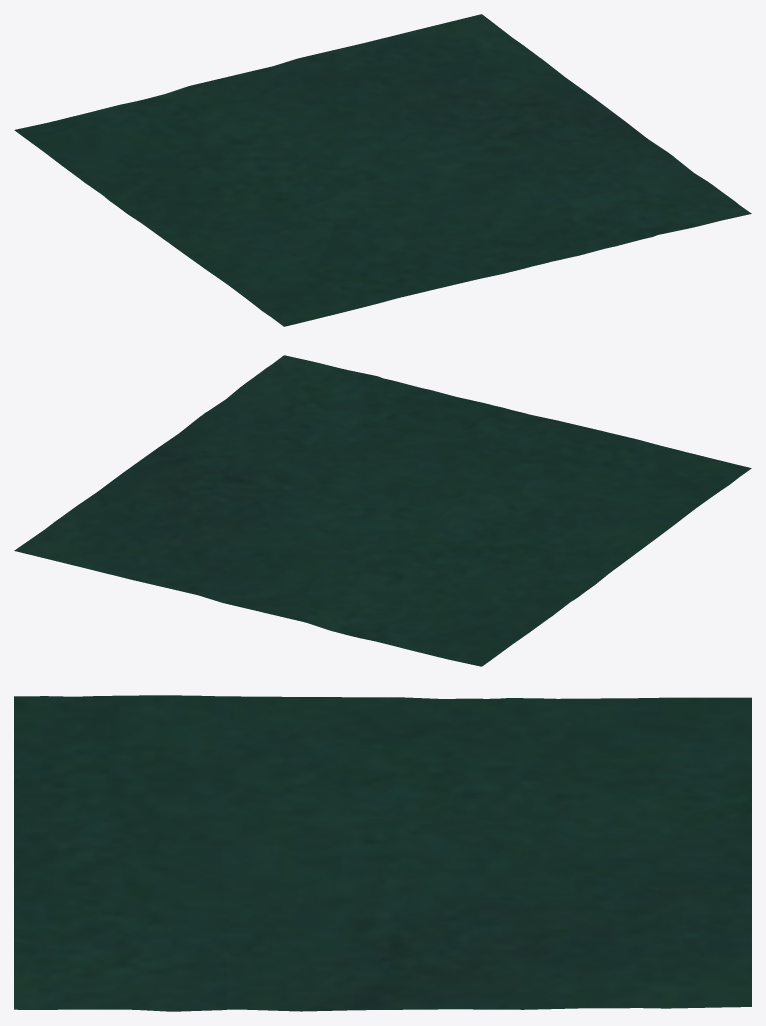
3 views of the same model, one above another, from view 1: azimuth 30°, elevation 25°; view 2: azimuth 150°, elevation 25°; view 3: azimuth 270°, elevation 25° (orthographic). The views are drawn at different scales.
Size of the model in its own units: 52.22 by 0.51 by 52.22.
2 materials, 2 textured.
